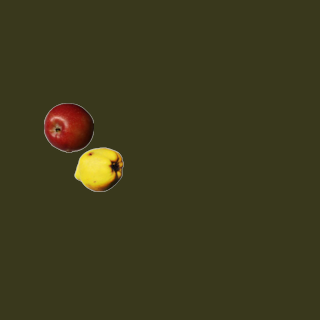Apple Braeburn: (43, 102, 93, 152)
Quince: (73, 144, 123, 194)
